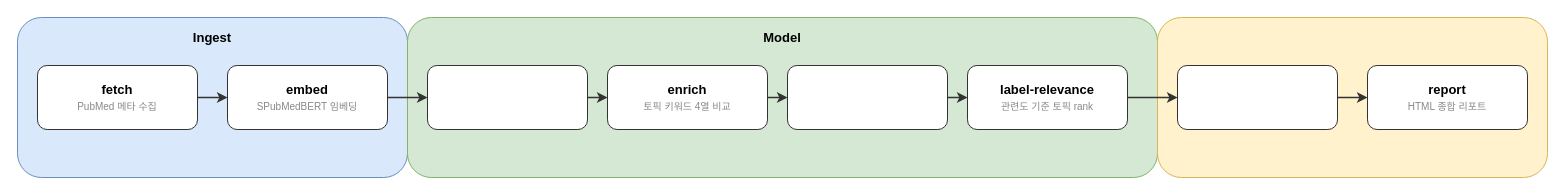
This 1565x195 diagram has some shape labels left out. The box of each missing label's shape, as (x1, y1, x2, y2) in pixels:
cluster BERTopic + sweep: (426, 64, 588, 130)
label Claude LLM 라벨링: (786, 64, 948, 130)
Output: (1156, 16, 1548, 178)
timeseries 연도별 추이 + 트렌드: (1176, 64, 1338, 130)
